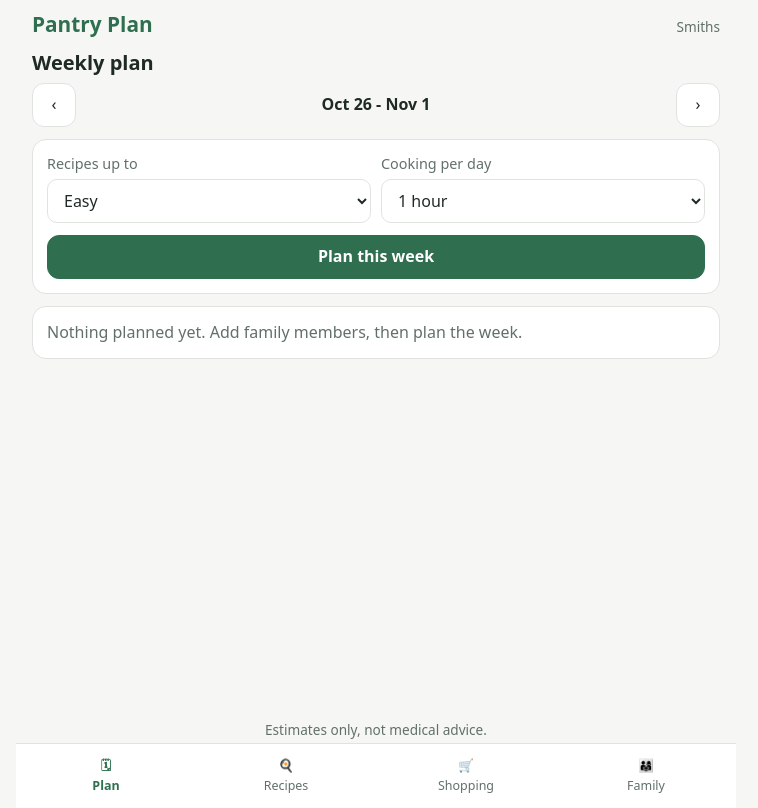
Test: App › signs out back to the login screen
This screenshot has width=758, height=808.
Click the button "👨‍👩‍👧 Family" at (646, 776), box [556, 744, 736, 807]
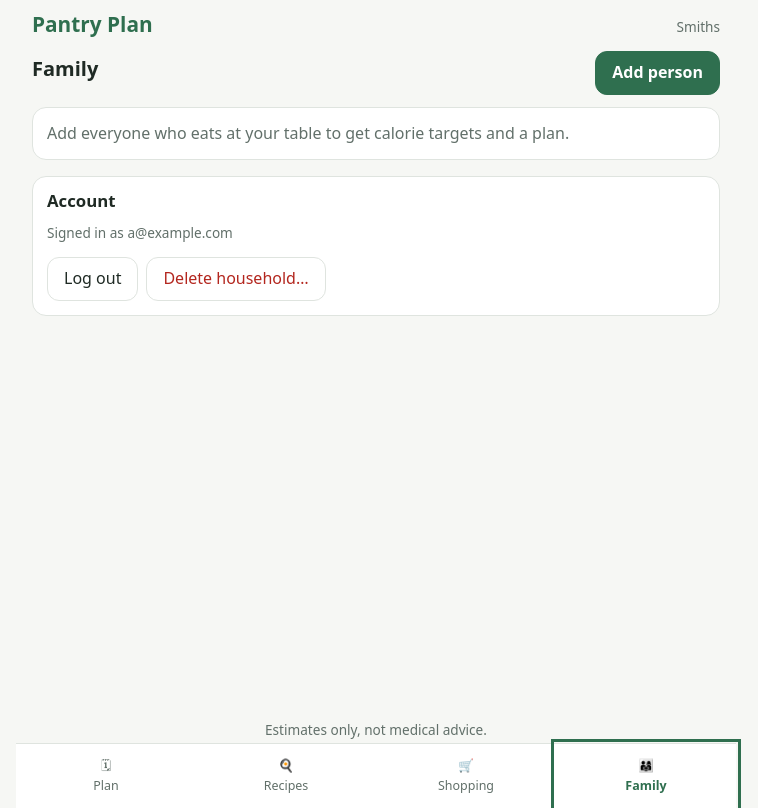
Click the button "Log out" at (93, 279), box [47, 257, 138, 301]
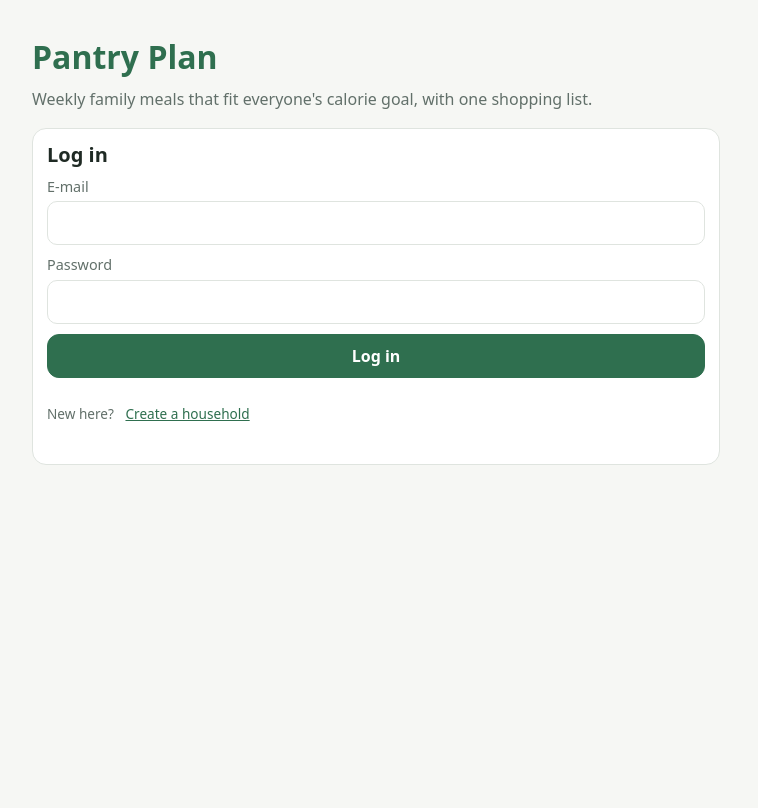
Expected: the heading "Log in" is shown, [47, 141, 108, 168]
